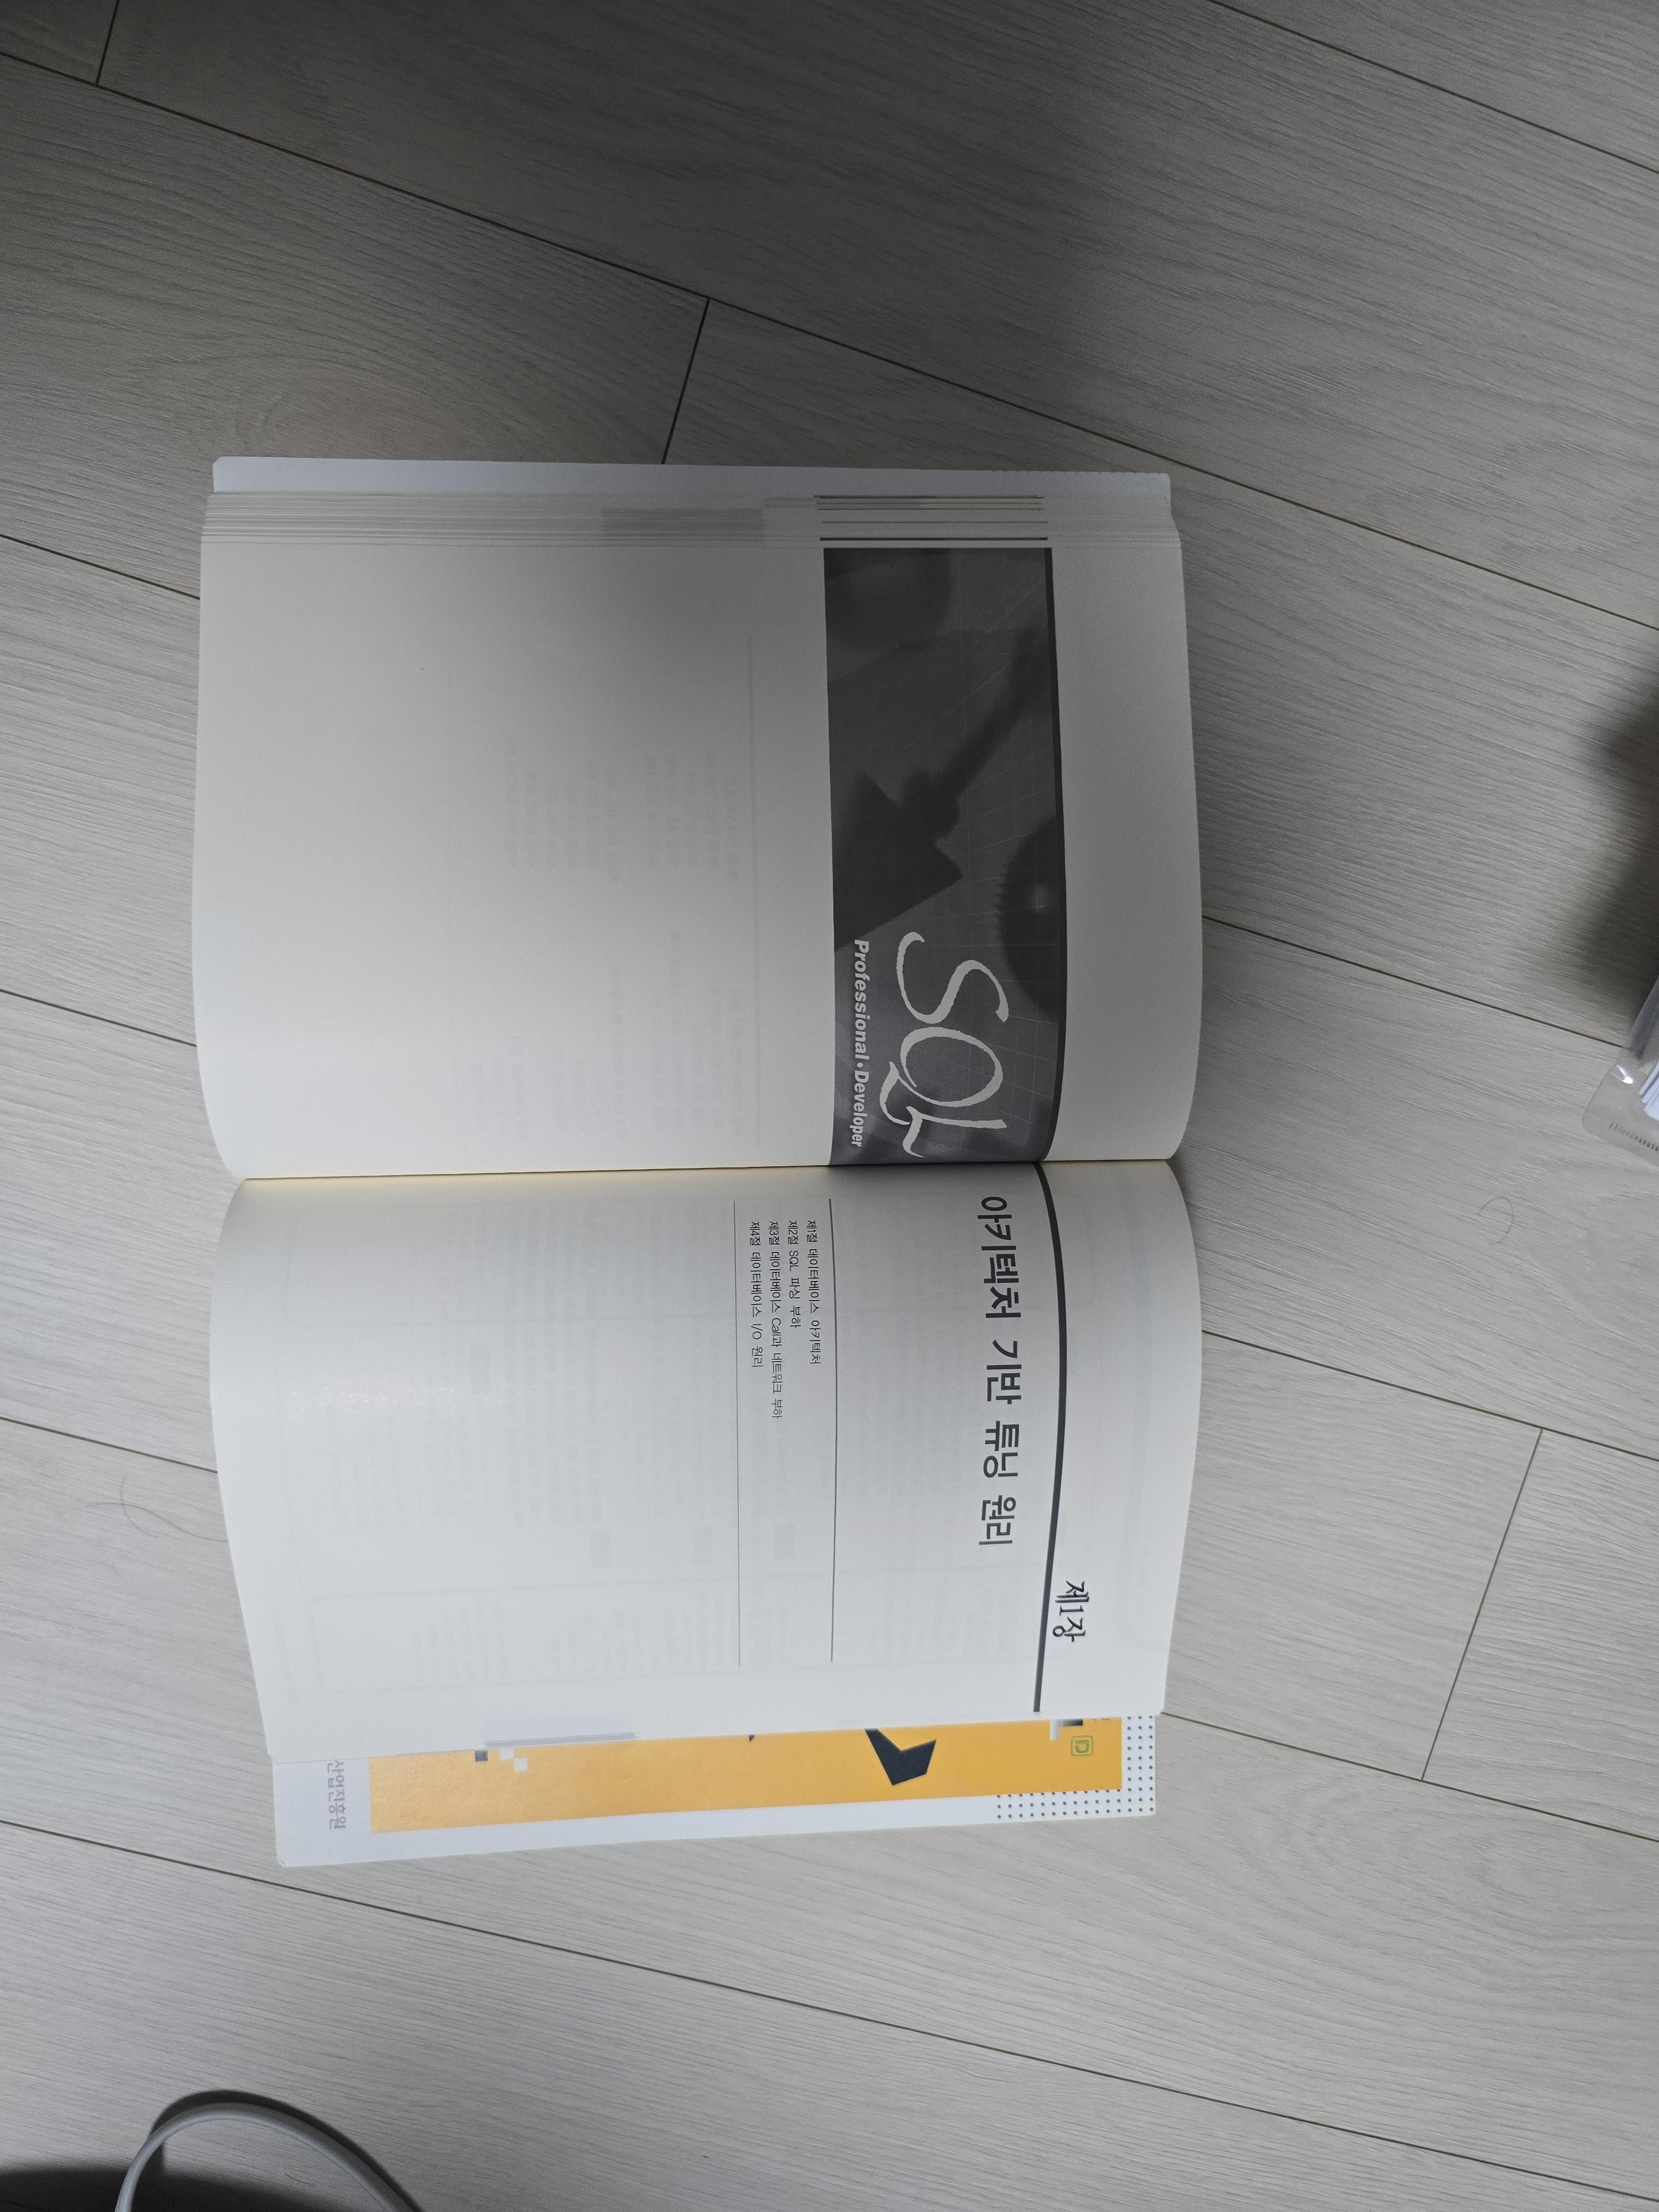book: (192, 455, 1204, 1179), (207, 1158, 1202, 1869)
